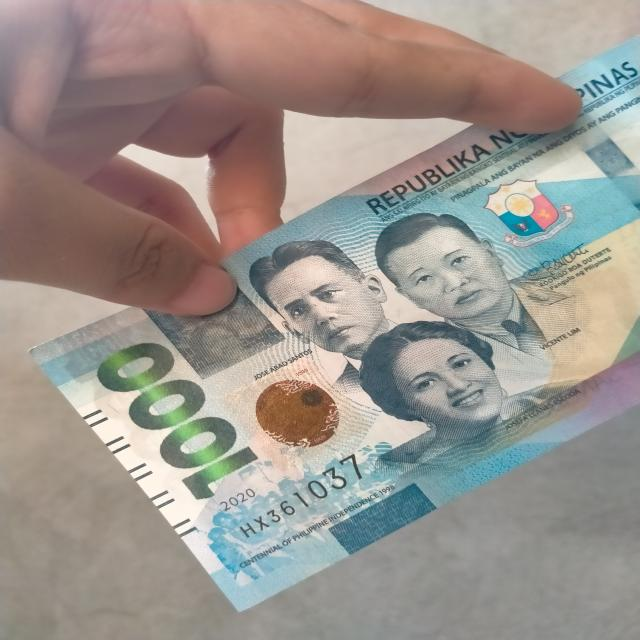concealed_value: (142, 271, 284, 377)
optically_variable_device: (212, 356, 370, 470)
serial_number: (229, 453, 366, 536)
value: (84, 334, 256, 514)
